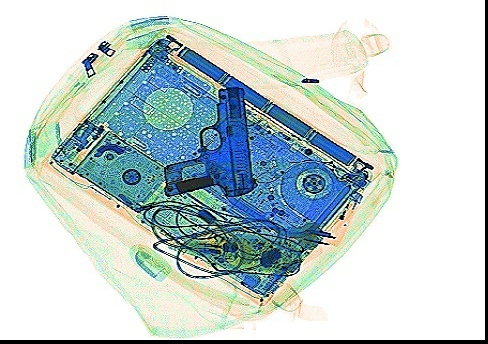lighter: (322, 188, 364, 247)
